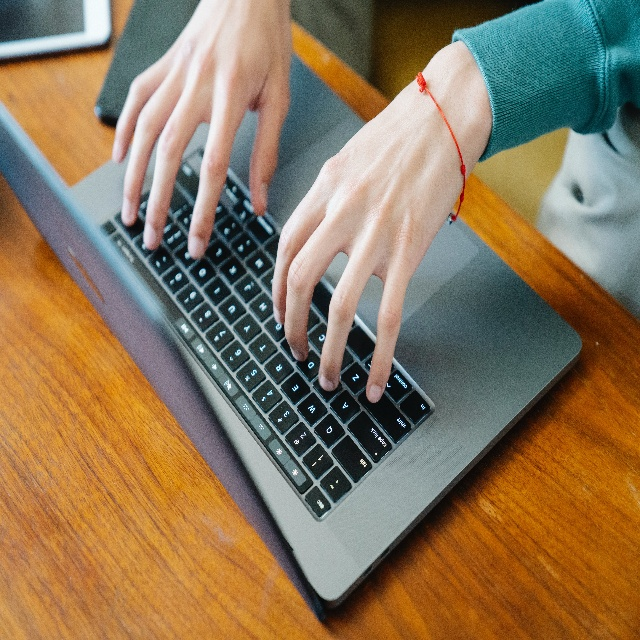Sin_guantes: (263, 88, 460, 400), (114, 0, 300, 266)
